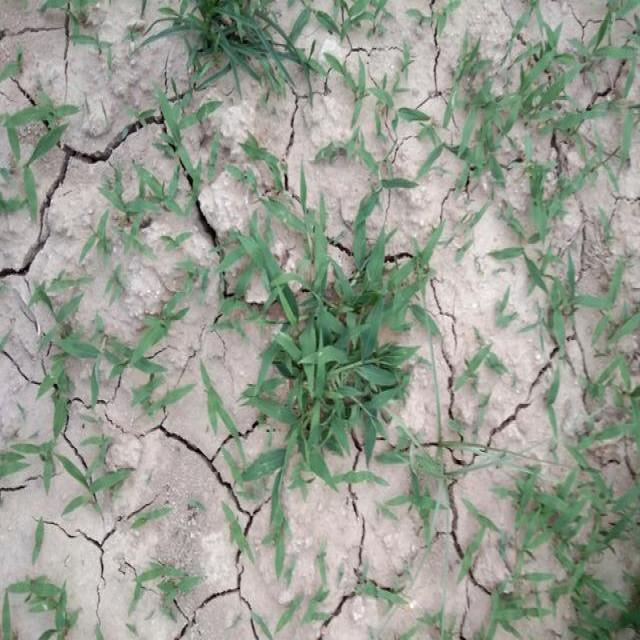weed: (234, 171, 430, 527), (465, 31, 640, 186), (502, 449, 639, 640), (15, 294, 188, 414), (170, 0, 330, 78), (129, 79, 212, 227), (0, 106, 69, 221)
